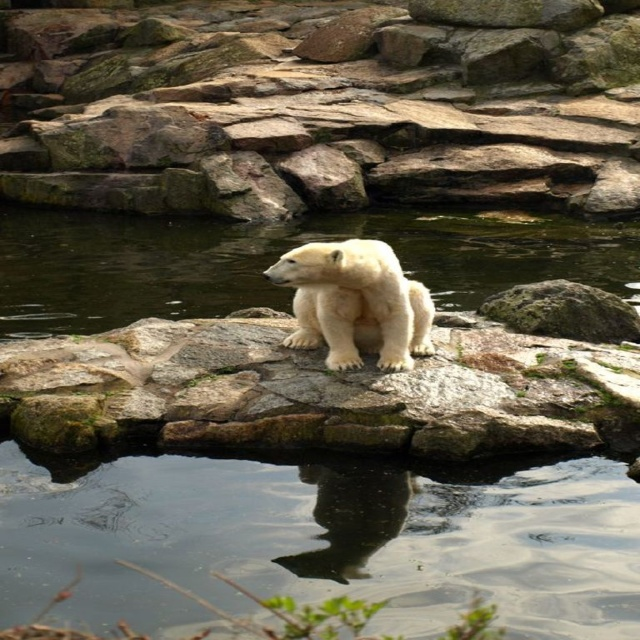Polar bear: (259, 233, 434, 370)
